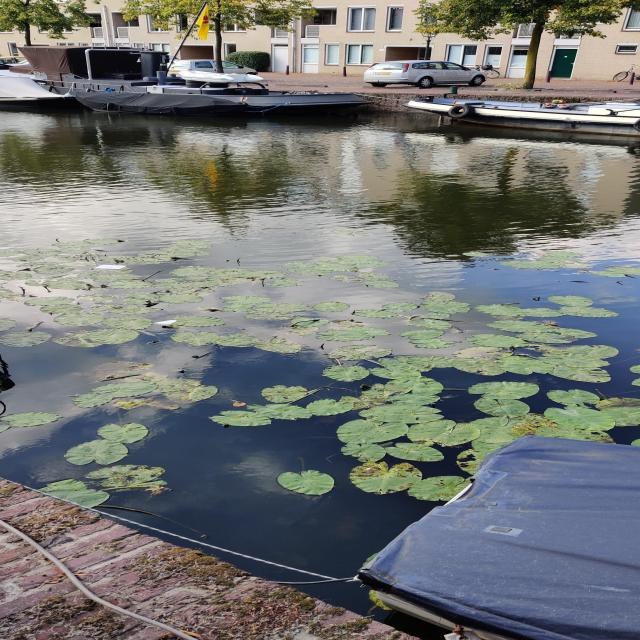litter: (96, 264, 126, 270), (155, 320, 179, 324)
